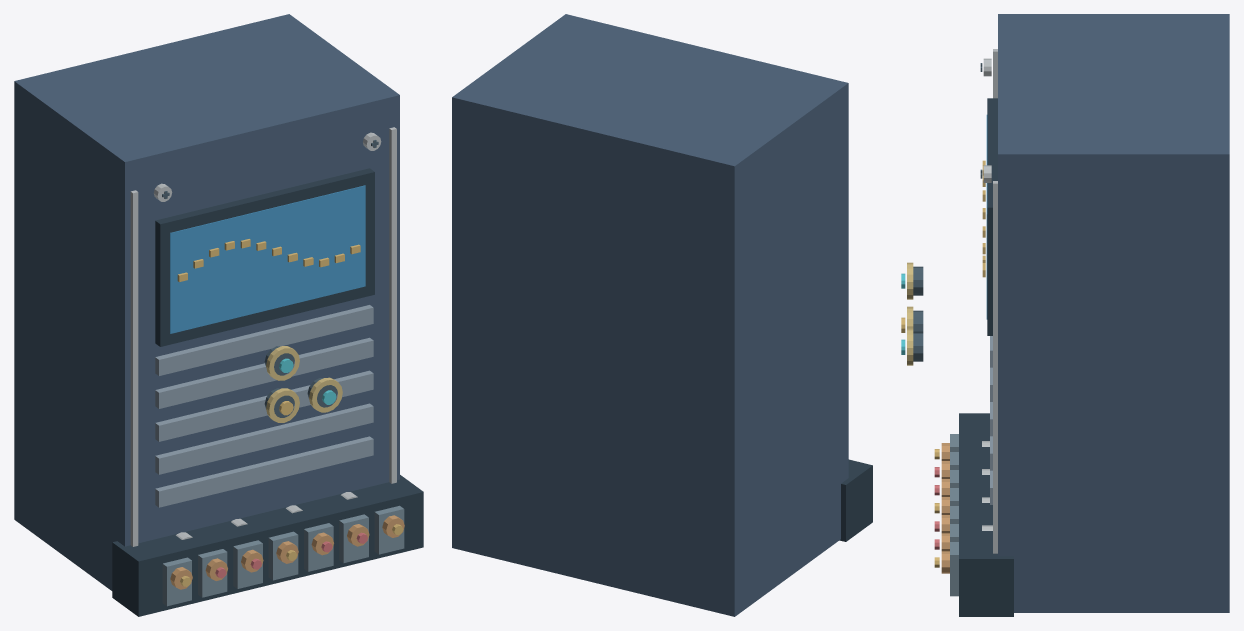
File: 66_L83_EPSPowerSafetyPLC.glb
The picture shows the model from 3 angles, left to right: view 1: azimuth 30°, elevation 25°; view 2: azimuth 150°, elevation 25°; view 3: azimuth 270°, elevation 25°; orthographic projection. The views are drawn at different scales.
Visible parts, largest first — view 1: EPSPowerSafetyPLC_Node_0000, EPSPowerSafetyPLC_Node_0008, EPSPowerSafetyPLC_Node_0046, EPSPowerSafetyPLC_Node_0007, EPSPowerSafetyPLC_Node_0022, EPSPowerSafetyPLC_Node_0021, EPSPowerSafetyPLC_Node_0025, EPSPowerSafetyPLC_Node_0024, EPSPowerSafetyPLC_Node_0023, EPSPowerSafetyPLC_Node_0005, EPSPowerSafetyPLC_Node_0006, EPSPowerSafetyPLC_Node_0056 (+9 smaller); view 2: EPSPowerSafetyPLC_Node_0000, EPSPowerSafetyPLC_Node_0046; view 3: EPSPowerSafetyPLC_Node_0000, EPSPowerSafetyPLC_Node_0046, EPSPowerSafetyPLC_Node_0006, EPSPowerSafetyPLC_Node_0007, EPSPowerSafetyPLC_Node_0065.
Boxes of the visible parts, bbox=[...] form: EPSPowerSafetyPLC_Node_0000: bbox=[14, 14, 399, 590]; EPSPowerSafetyPLC_Node_0008: bbox=[170, 185, 365, 333]; EPSPowerSafetyPLC_Node_0046: bbox=[112, 475, 423, 616]; EPSPowerSafetyPLC_Node_0007: bbox=[155, 168, 374, 346]; EPSPowerSafetyPLC_Node_0022: bbox=[155, 403, 373, 474]; EPSPowerSafetyPLC_Node_0021: bbox=[155, 436, 373, 507]; EPSPowerSafetyPLC_Node_0025: bbox=[155, 305, 373, 375]; EPSPowerSafetyPLC_Node_0024: bbox=[155, 337, 373, 408]; EPSPowerSafetyPLC_Node_0023: bbox=[155, 370, 373, 441]; EPSPowerSafetyPLC_Node_0005: bbox=[130, 190, 138, 546]; EPSPowerSafetyPLC_Node_0006: bbox=[389, 127, 396, 483]; EPSPowerSafetyPLC_Node_0056: bbox=[268, 531, 298, 580]; EPSPowerSafetyPLC_Node_0000: bbox=[452, 14, 848, 616]; EPSPowerSafetyPLC_Node_0046: bbox=[839, 459, 872, 541]; EPSPowerSafetyPLC_Node_0000: bbox=[998, 14, 1229, 612]; EPSPowerSafetyPLC_Node_0046: bbox=[959, 413, 1013, 616]; EPSPowerSafetyPLC_Node_0006: bbox=[993, 181, 997, 553]; EPSPowerSafetyPLC_Node_0007: bbox=[987, 98, 997, 335]; EPSPowerSafetyPLC_Node_0065: bbox=[950, 542, 958, 596].
Bounding box in the file's own units: 1.13 × 1.67 × 1.08.
